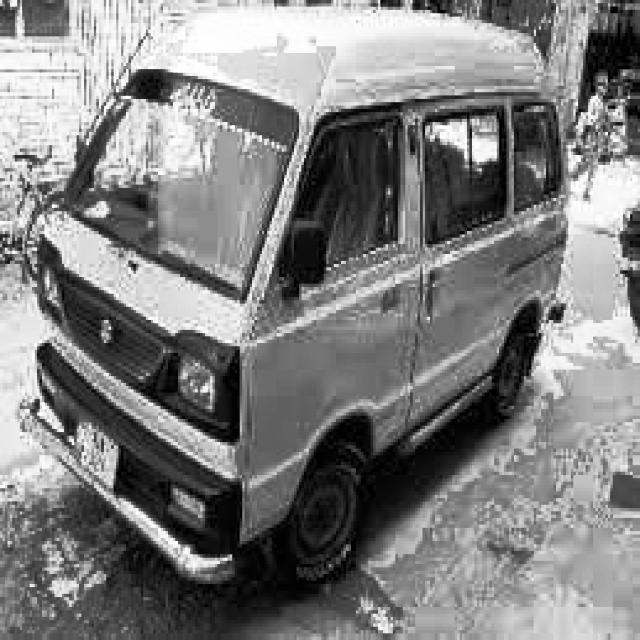LCV: (30, 3, 573, 604)
